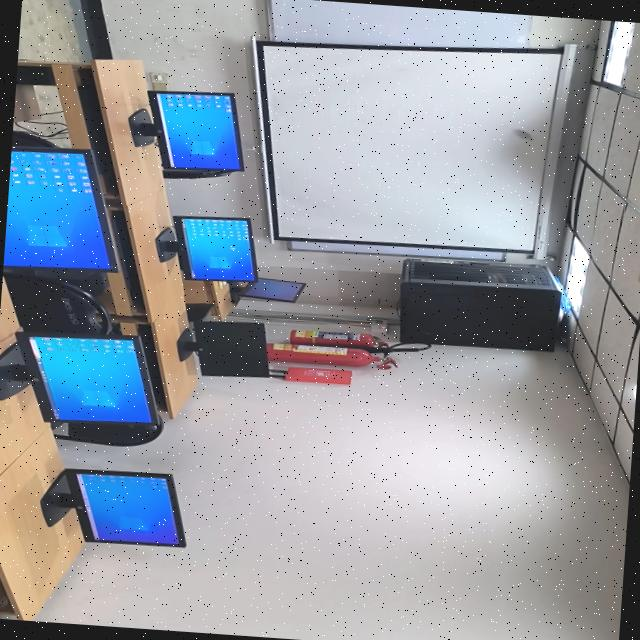Chair: (4, 272, 112, 336), (53, 415, 163, 445)
Fire Extinguisher: (268, 329, 381, 366)
Keyboard: (75, 68, 116, 192), (111, 210, 143, 308), (112, 210, 143, 308), (136, 324, 165, 409), (17, 66, 33, 73)
Light: (603, 20, 635, 85), (565, 236, 590, 316)
Monitor: (0, 330, 163, 425), (3, 147, 116, 271), (42, 468, 184, 546), (129, 91, 241, 175), (155, 216, 256, 281), (176, 320, 268, 376), (242, 276, 306, 301)
